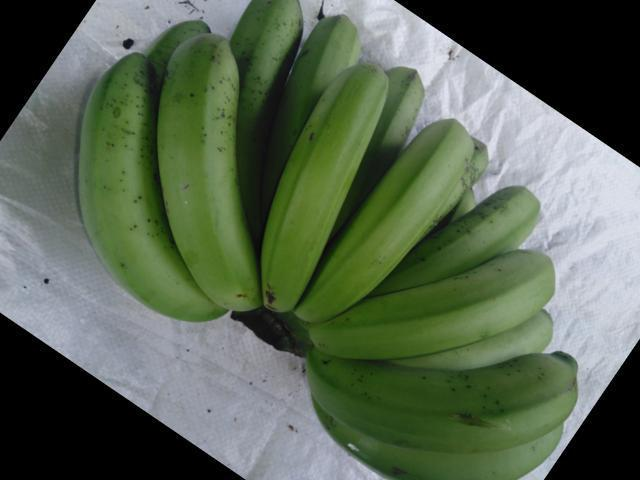freshunripe: (303, 114, 479, 324), (298, 234, 572, 363), (257, 56, 384, 320)
unripe: (281, 341, 588, 453), (153, 28, 263, 307), (68, 37, 161, 305), (233, 3, 302, 106)
